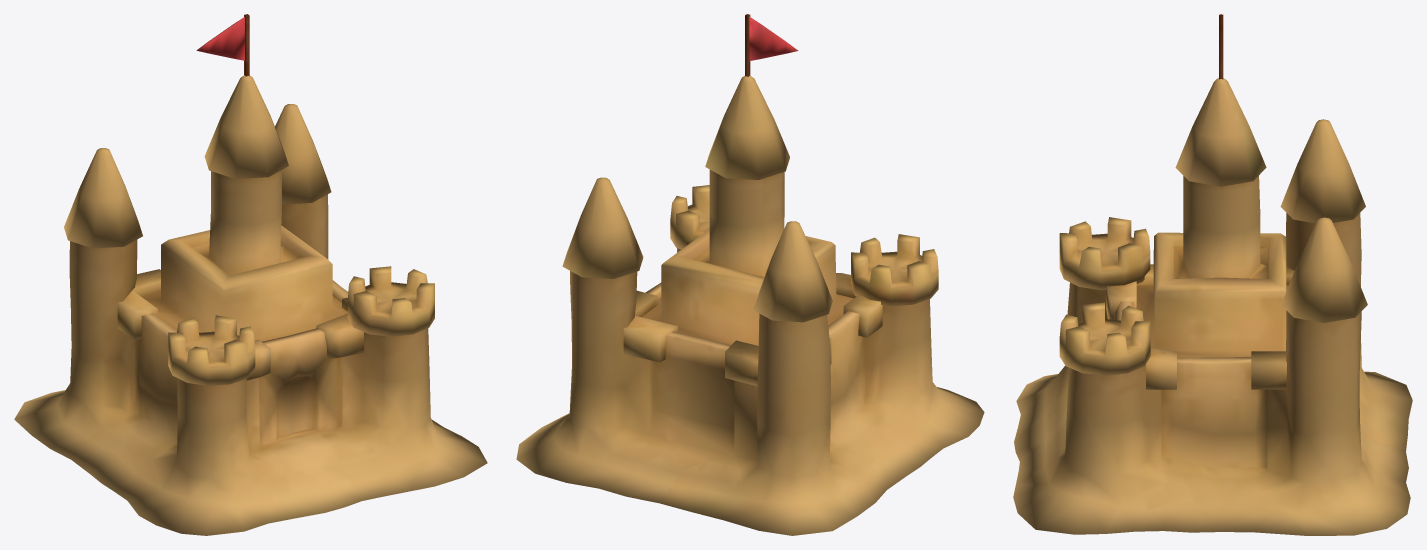
The model's file is sandcastle.glb.
3 views of the same model, side by side, from view 1: azimuth 30°, elevation 25°; view 2: azimuth 150°, elevation 25°; view 3: azimuth 270°, elevation 25° (orthographic). The views are drawn at different scales.
Size of the model in its own units: 8.66 by 10.6 by 8.78.
1 material, 1 textured.
